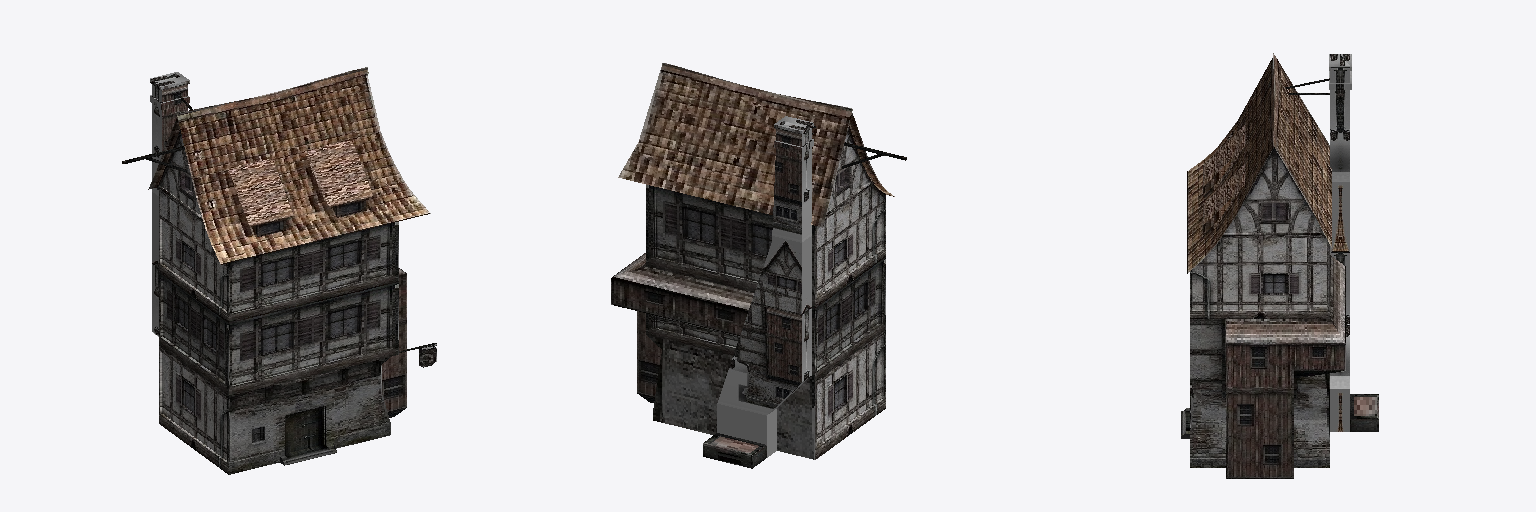
The picture shows the model from 3 angles: view 1: azimuth 30°, elevation 25°; view 2: azimuth 150°, elevation 25°; view 3: azimuth 270°, elevation 25°; orthographic projection.
Parts seen in each view (by area): view 1: Mesh2 Component_2_1 Group1 Model, Mesh22 Component_3_4 Group1 Model, Mesh4 Component_5_1 Group1 Model, Mesh3 Component_3_2 Group1 Model, Mesh6 Component_10_1 Group1 Model, Mesh24 Component_3_5 Group1 Model, Mesh28 Component_10_3 Group1 Model, Mesh5 Component_11_1 Group1 Model, Mesh13 Component_21_1 Component_20_1 Group1 Model, Mesh16 Component_21_2 Component_20_2 Group1 Model, Mesh23 Component_15_1 Group1 Model, Mesh30 Component_33_2 Group1 Model (+2 smaller); view 2: Mesh7 Component_12_1 Group1 Model, Mesh29 Component_33_1 Group1 Model, Mesh1 Component_3_1 Group1 Model, Mesh12 Component_23_1 Group1 Model, Mesh23 Component_15_1 Group1 Model, Mesh6 Component_10_1 Group1 Model, Mesh24 Component_3_5 Group1 Model, Mesh28 Component_10_3 Group1 Model, Mesh5 Component_11_1 Group1 Model, Mesh15 Component_3_3 Group1 Model, Mesh30 Component_33_2 Group1 Model, Mesh27 Component_1_1 Group1 Model (+1 smaller); view 3: Mesh23 Component_15_1 Group1 Model, Mesh9 Component_10_2 Group1 Model, Mesh8 Component_11_2 Group1 Model, Mesh2 Component_2_1 Group1 Model, Mesh10 Component_26_1 Component_13_1 Group1 Model, Mesh7 Component_12_1 Group1 Model, Mesh29 Component_33_1 Group1 Model, Mesh11 Component_27_1 Component_13_1 Group1 Model, Mesh30 Component_33_2 Group1 Model, Mesh27 Component_1_1 Group1 Model, Mesh16 Component_21_2 Component_20_2 Group1 Model, Mesh13 Component_21_1 Component_20_1 Group1 Model.
Part boxes in pixels (x1,y1,x2,y2): Mesh2 Component_2_1 Group1 Model: (177,67,430,264); Mesh22 Component_3_4 Group1 Model: (229,281,398,395); Mesh4 Component_5_1 Group1 Model: (229,357,390,474); Mesh3 Component_3_2 Group1 Model: (229,222,398,321); Mesh6 Component_10_1 Group1 Model: (159,346,228,474); Mesh24 Component_3_5 Group1 Model: (159,272,228,395); Mesh28 Component_10_3 Group1 Model: (159,214,228,321); Mesh5 Component_11_1 Group1 Model: (157,130,228,264); Mesh13 Component_21_1 Component_20_1 Group1 Model: (308,140,373,206); Mesh16 Component_21_2 Component_20_2 Group1 Model: (229,159,293,226); Mesh23 Component_15_1 Group1 Model: (382,268,406,417); Mesh30 Component_33_2 Group1 Model: (156,76,189,335); Mesh7 Component_12_1 Group1 Model: (618,63,852,227); Mesh29 Component_33_1 Group1 Model: (717,120,807,457); Mesh1 Component_3_1 Group1 Model: (646,185,814,306); Mesh12 Component_23_1 Group1 Model: (647,335,814,459); Mesh23 Component_15_1 Group1 Model: (611,253,753,402); Mesh6 Component_10_1 Group1 Model: (815,330,885,459); Mesh24 Component_3_5 Group1 Model: (815,256,885,381); Mesh28 Component_10_3 Group1 Model: (815,199,885,306); Mesh5 Component_11_1 Group1 Model: (815,127,885,249); Mesh15 Component_3_3 Group1 Model: (646,274,814,375); Mesh30 Component_33_2 Group1 Model: (772,116,813,453); Mesh27 Component_1_1 Group1 Model: (703,433,766,468); Mesh23 Component_15_1 Group1 Model: (1226,255,1345,478); Mesh9 Component_10_2 Group1 Model: (1190,262,1329,318); Mesh8 Component_11_2 Group1 Model: (1201,147,1329,261); Mesh2 Component_2_1 Group1 Model: (1187,58,1273,273); Mesh10 Component_26_1 Component_13_1 Group1 Model: (1190,391,1329,467); Mesh7 Component_12_1 Group1 Model: (1273,53,1331,247); Mesh29 Component_33_1 Group1 Model: (1340,54,1351,431); Mesh11 Component_27_1 Component_13_1 Group1 Model: (1190,319,1329,390); Mesh30 Component_33_2 Group1 Model: (1329,54,1339,431); Mesh27 Component_1_1 Group1 Model: (1350,394,1378,431); Mesh16 Component_21_2 Component_20_2 Group1 Model: (1203,125,1244,186); Mesh13 Component_21_1 Component_20_1 Group1 Model: (1203,164,1244,224).
Size of the model in its own units: 12.76 by 15.1 by 8.09.
Materials: 1 (1 with a texture image).